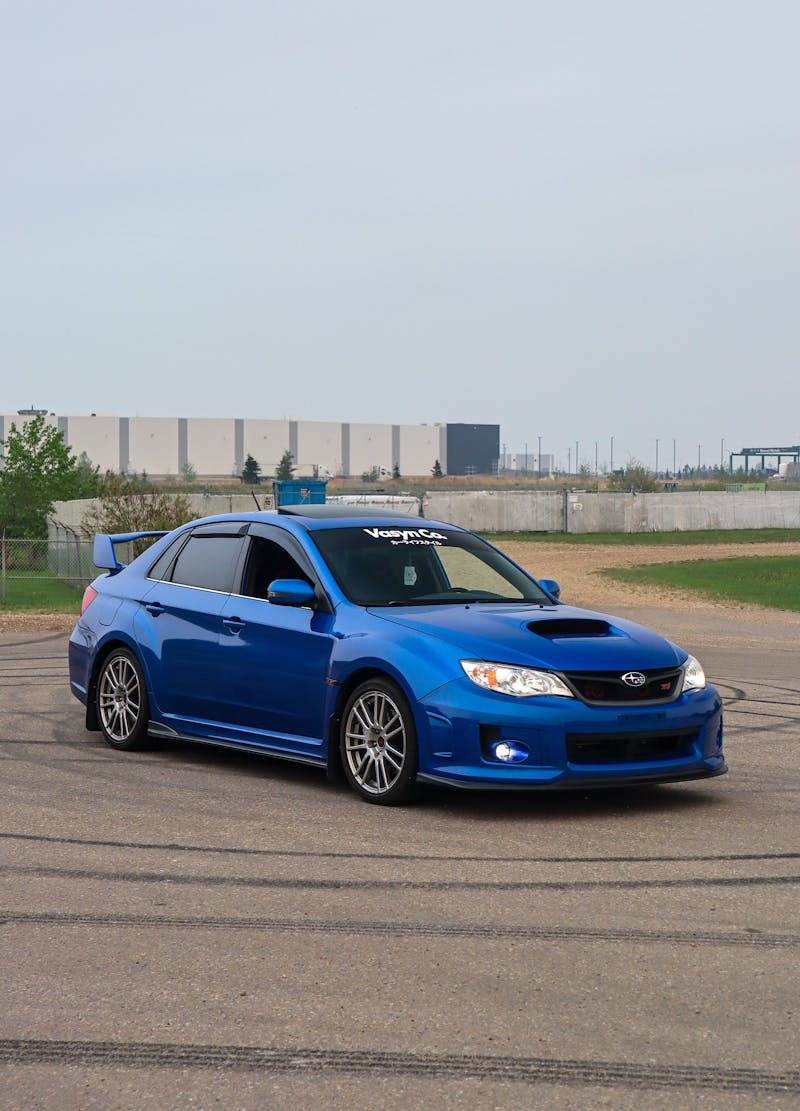other: (54, 519, 742, 807)
